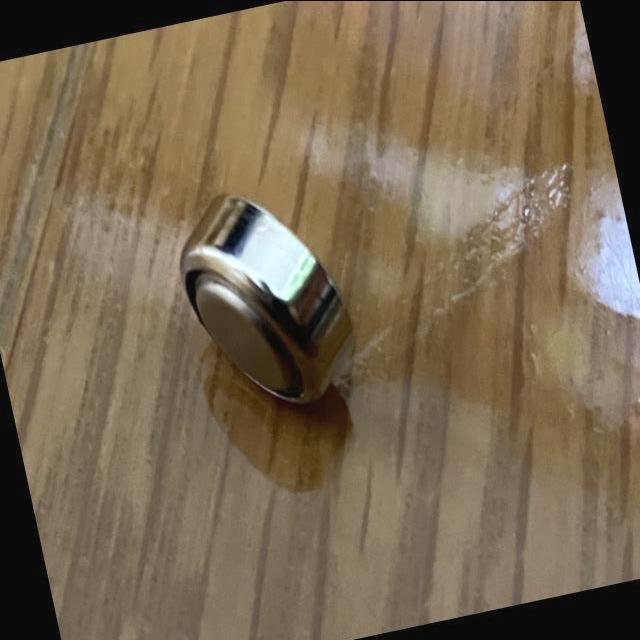COIN: (162, 168, 370, 430)
